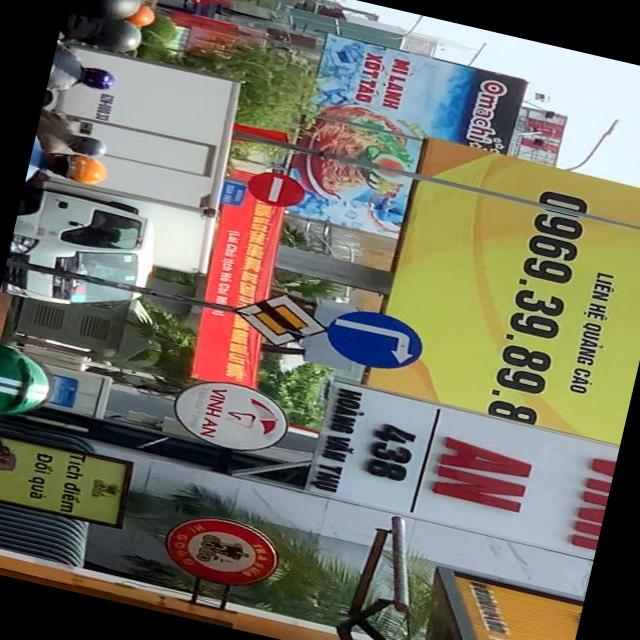P-102: (244, 167, 308, 211)
R-301d: (322, 304, 426, 378)
